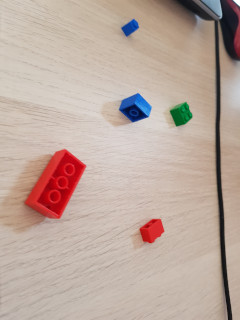1x1 blue: (120, 19, 139, 38)
1x2 red: (140, 218, 165, 244)
2x2 blue: (119, 93, 152, 125)
2x2 green: (170, 101, 192, 129)
2x4 red: (26, 150, 88, 221)
